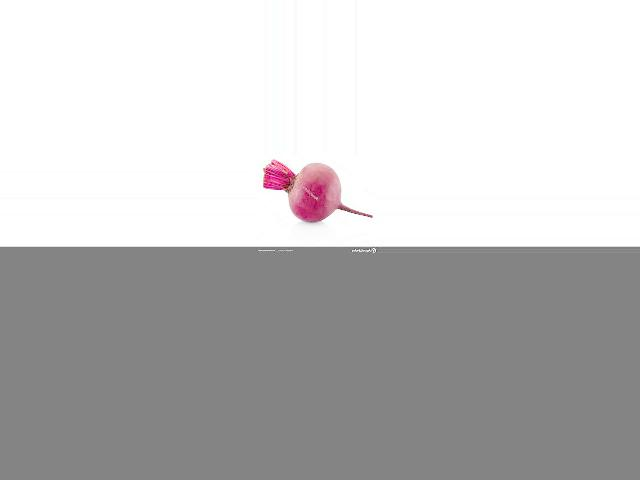beet: (262, 160, 372, 222)
